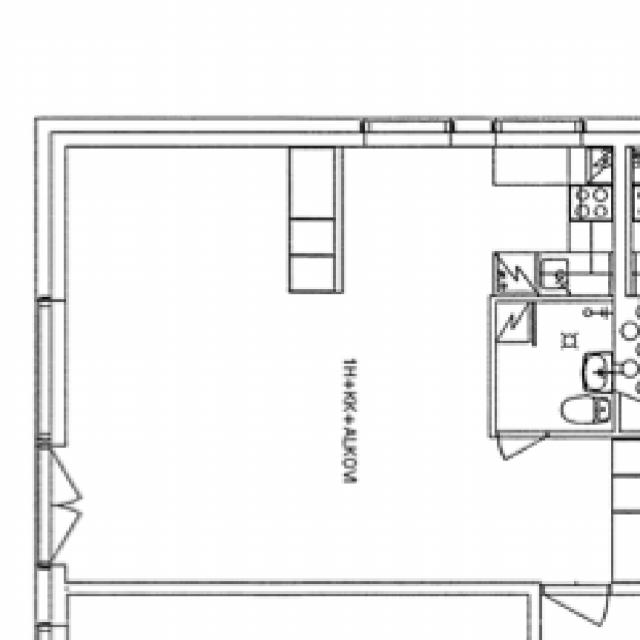door: (35, 506, 109, 562), (35, 450, 109, 506), (499, 430, 546, 483)
